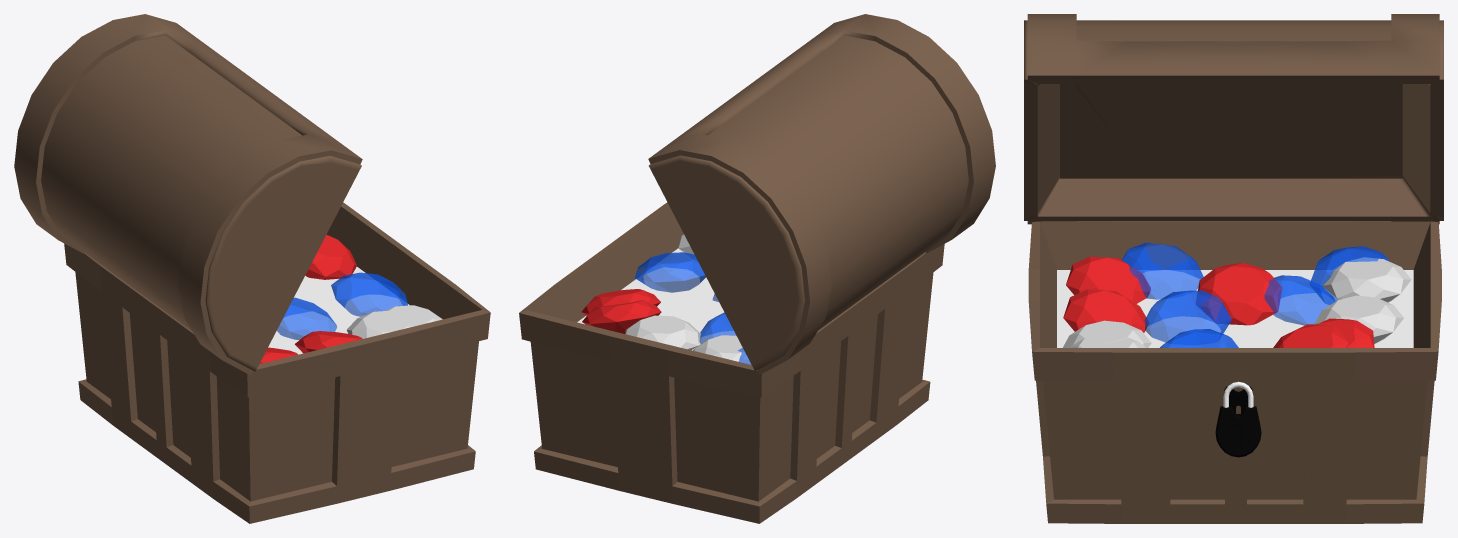
The model's file is Diamondbox.fbx.
3 views of the same model, side by side, from view 1: azimuth 30°, elevation 25°; view 2: azimuth 150°, elevation 25°; view 3: azimuth 270°, elevation 25° (orthographic). The views are drawn at different scales.
Parts seen in each view (by area): view 1: diamond_box, Cube.002, Cube.001; view 2: diamond_box, Cube.002, Cube.001; view 3: diamond_box, Cube.001, Cube.002.
Part boxes in pixels (<box>): diamond_box: <box>14,14,490,523</box>; Cube.002: <box>14,30,393,452</box>; Cube.001: <box>131,148,474,506</box>; diamond_box: <box>519,14,995,523</box>; Cube.002: <box>522,116,857,523</box>; Cube.001: <box>621,14,954,422</box>; diamond_box: <box>1024,14,1443,523</box>; Cube.001: <box>1024,40,1261,523</box>; Cube.002: <box>1231,75,1443,509</box>.
Size of the model in its own units: 128 by 140 by 132.
8 materials, 1 textured.
